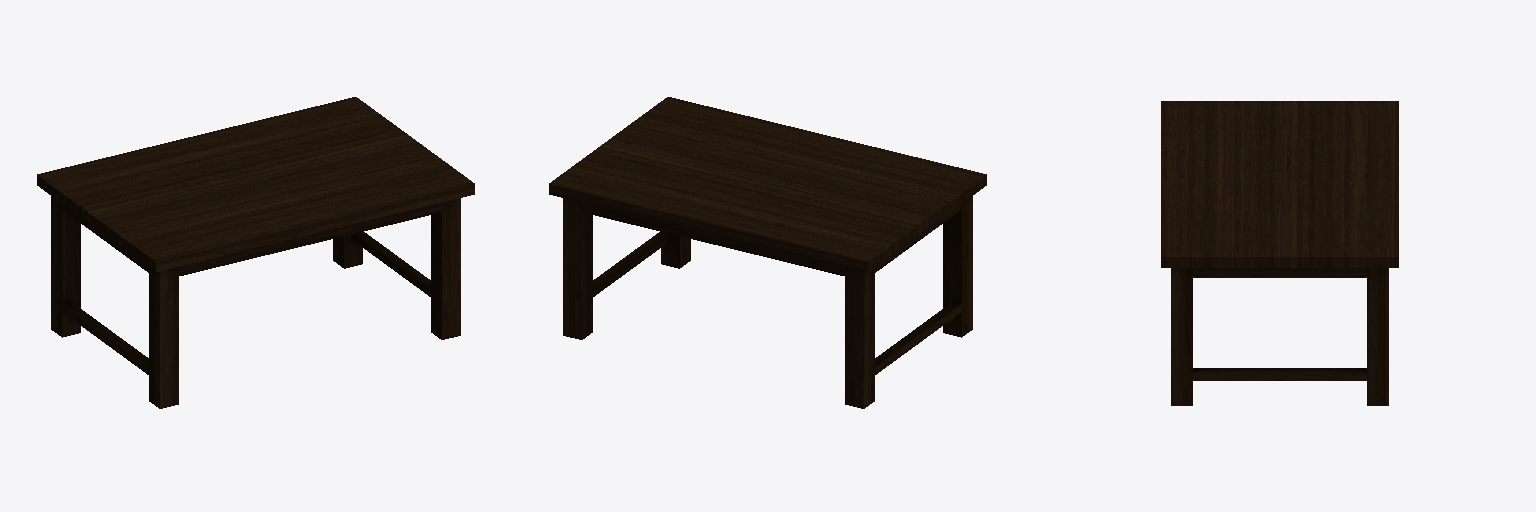
3 views of the same model, side by side, from view 1: azimuth 30°, elevation 25°; view 2: azimuth 150°, elevation 25°; view 3: azimuth 270°, elevation 25° (orthographic).
Visible parts, largest first — view 1: Table_table; view 2: Table_table; view 3: Table_table.
Part boxes in pixels (bbox=[...]): Table_table: bbox=[37, 97, 474, 408]; Table_table: bbox=[549, 97, 986, 408]; Table_table: bbox=[1161, 101, 1398, 405].
Bounding box in the file's own units: 3.4 × 1.56 × 2.2.
1 materials, 1 textured.